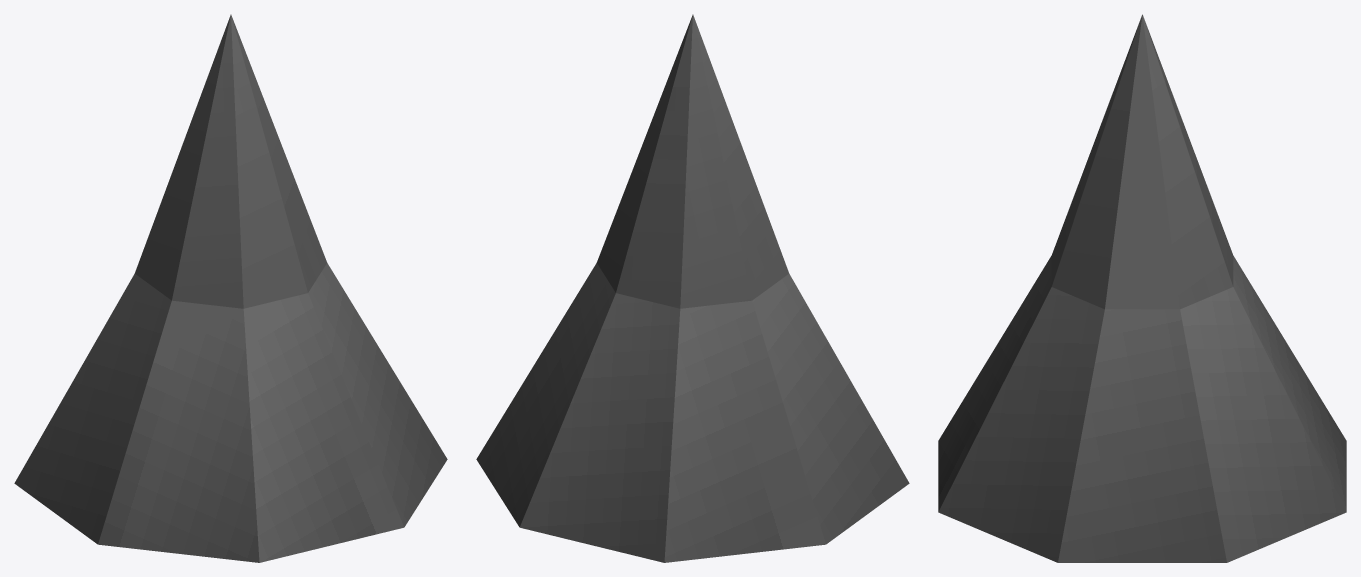
File: Spike.glb
The picture shows the model from 3 angles, left to right: view 1: azimuth 30°, elevation 25°; view 2: azimuth 150°, elevation 25°; view 3: azimuth 270°, elevation 25°; orthographic projection.
Parts seen in each view (by area): view 1: cone; view 2: cone; view 3: cone.
Part boxes in pixels (x1,y1,x2,y2): cone: [14, 14, 447, 562]; cone: [476, 14, 909, 562]; cone: [938, 14, 1346, 562].
Bounding box in the file's own units: 1 × 1.25 × 1.
Materials: 1 (1 with a texture image).
